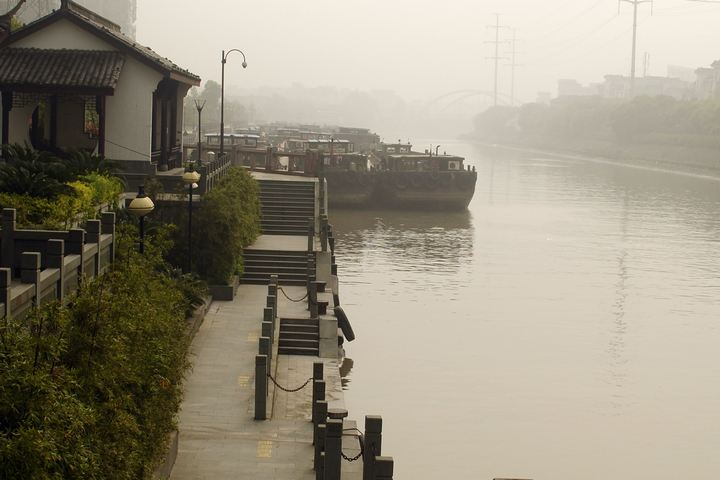boat: (374, 138, 476, 206), (286, 136, 376, 203)
